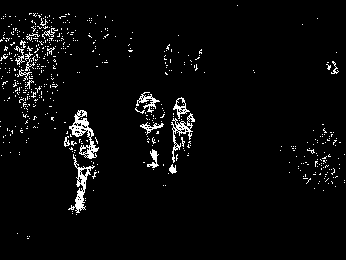person: (62, 107, 101, 214), (133, 91, 167, 170), (169, 96, 195, 174)
